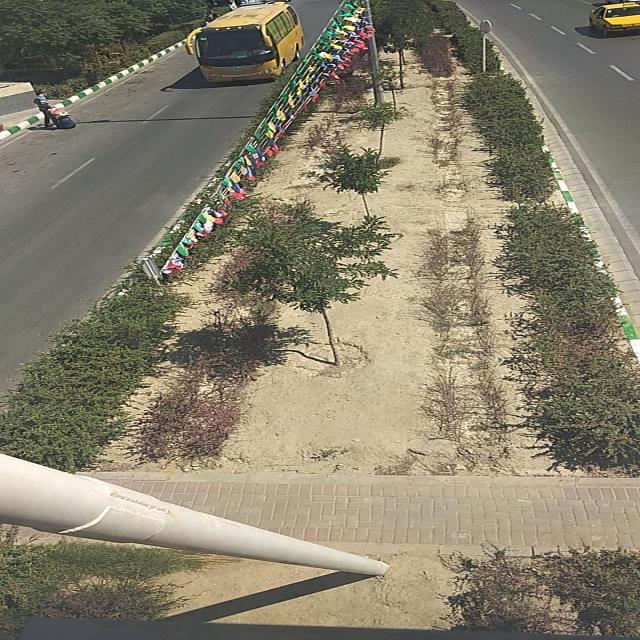bus: (188, 3, 304, 83)
car: (590, 4, 640, 35)
